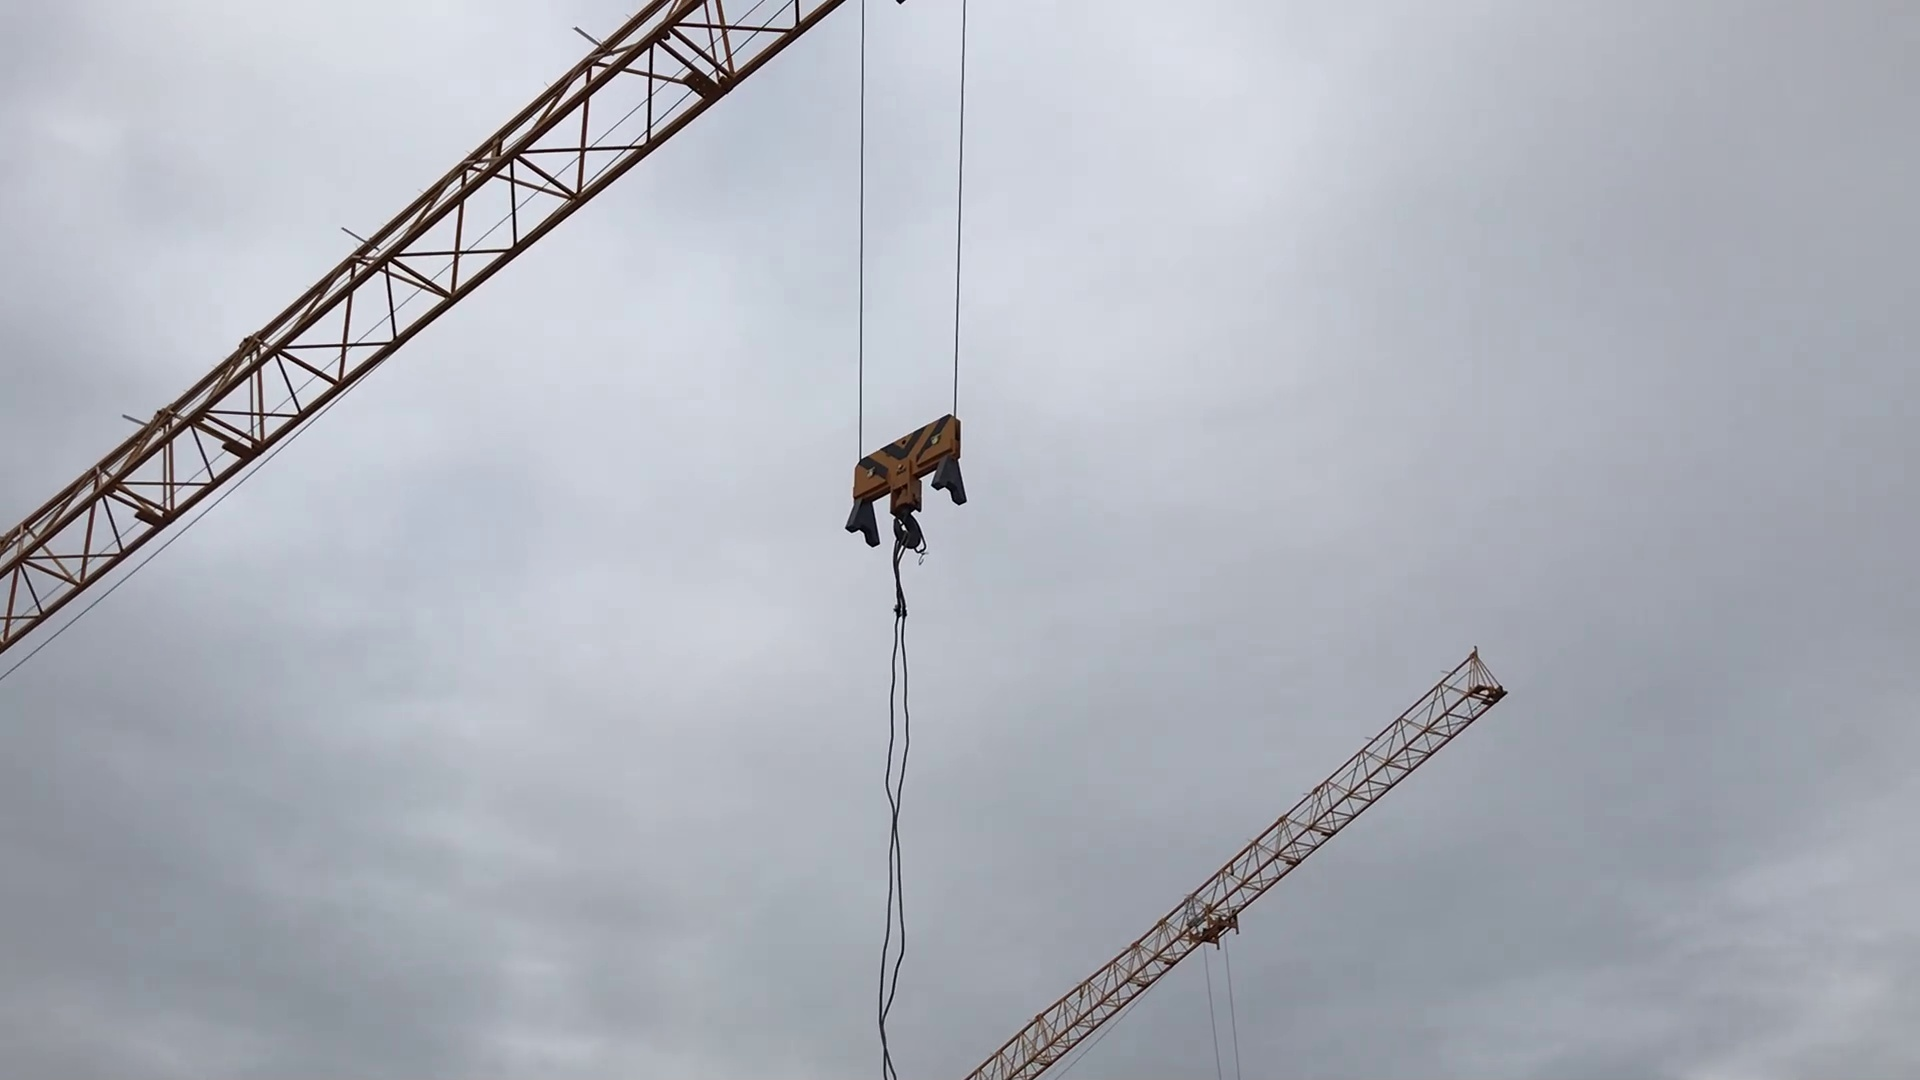hook: (837, 407, 993, 576)
